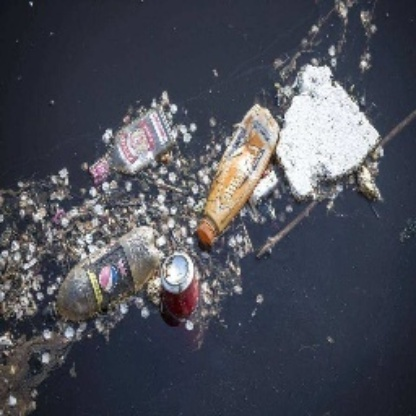bottle: (198, 105, 278, 250), (86, 102, 177, 186), (158, 251, 205, 326)
plastic-garbage: (279, 57, 381, 204)
